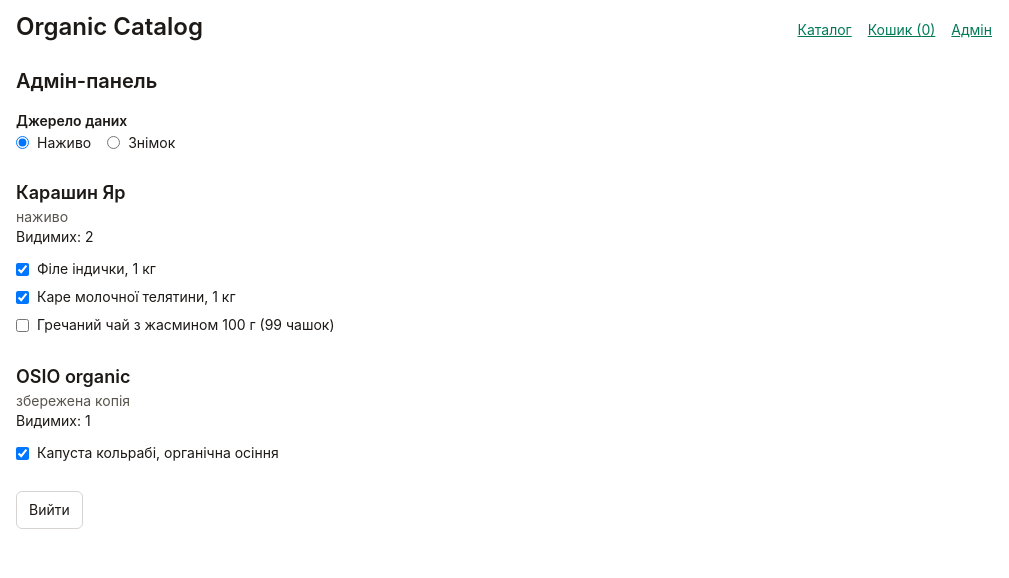
Data source switch › Source switch failure keeps the radio
Click the radio button labelled "Знімок".
click(114, 142)  # box [107, 136, 120, 149]
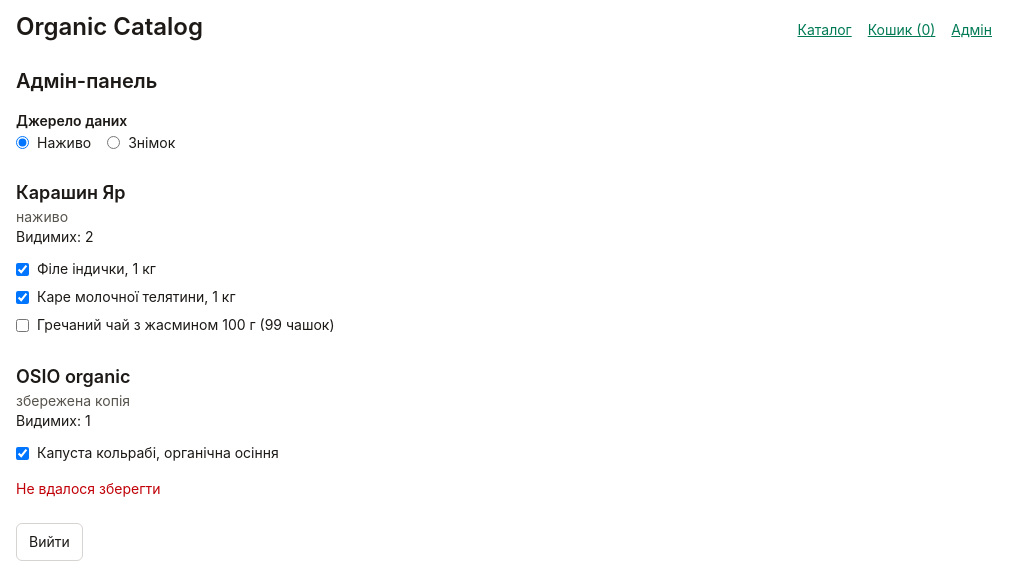
Expected: the radio button labelled "Наживо" is checked, [16, 136, 29, 149]
Expected: the message reads "Не вдалося зберегти", [16, 480, 160, 497]
